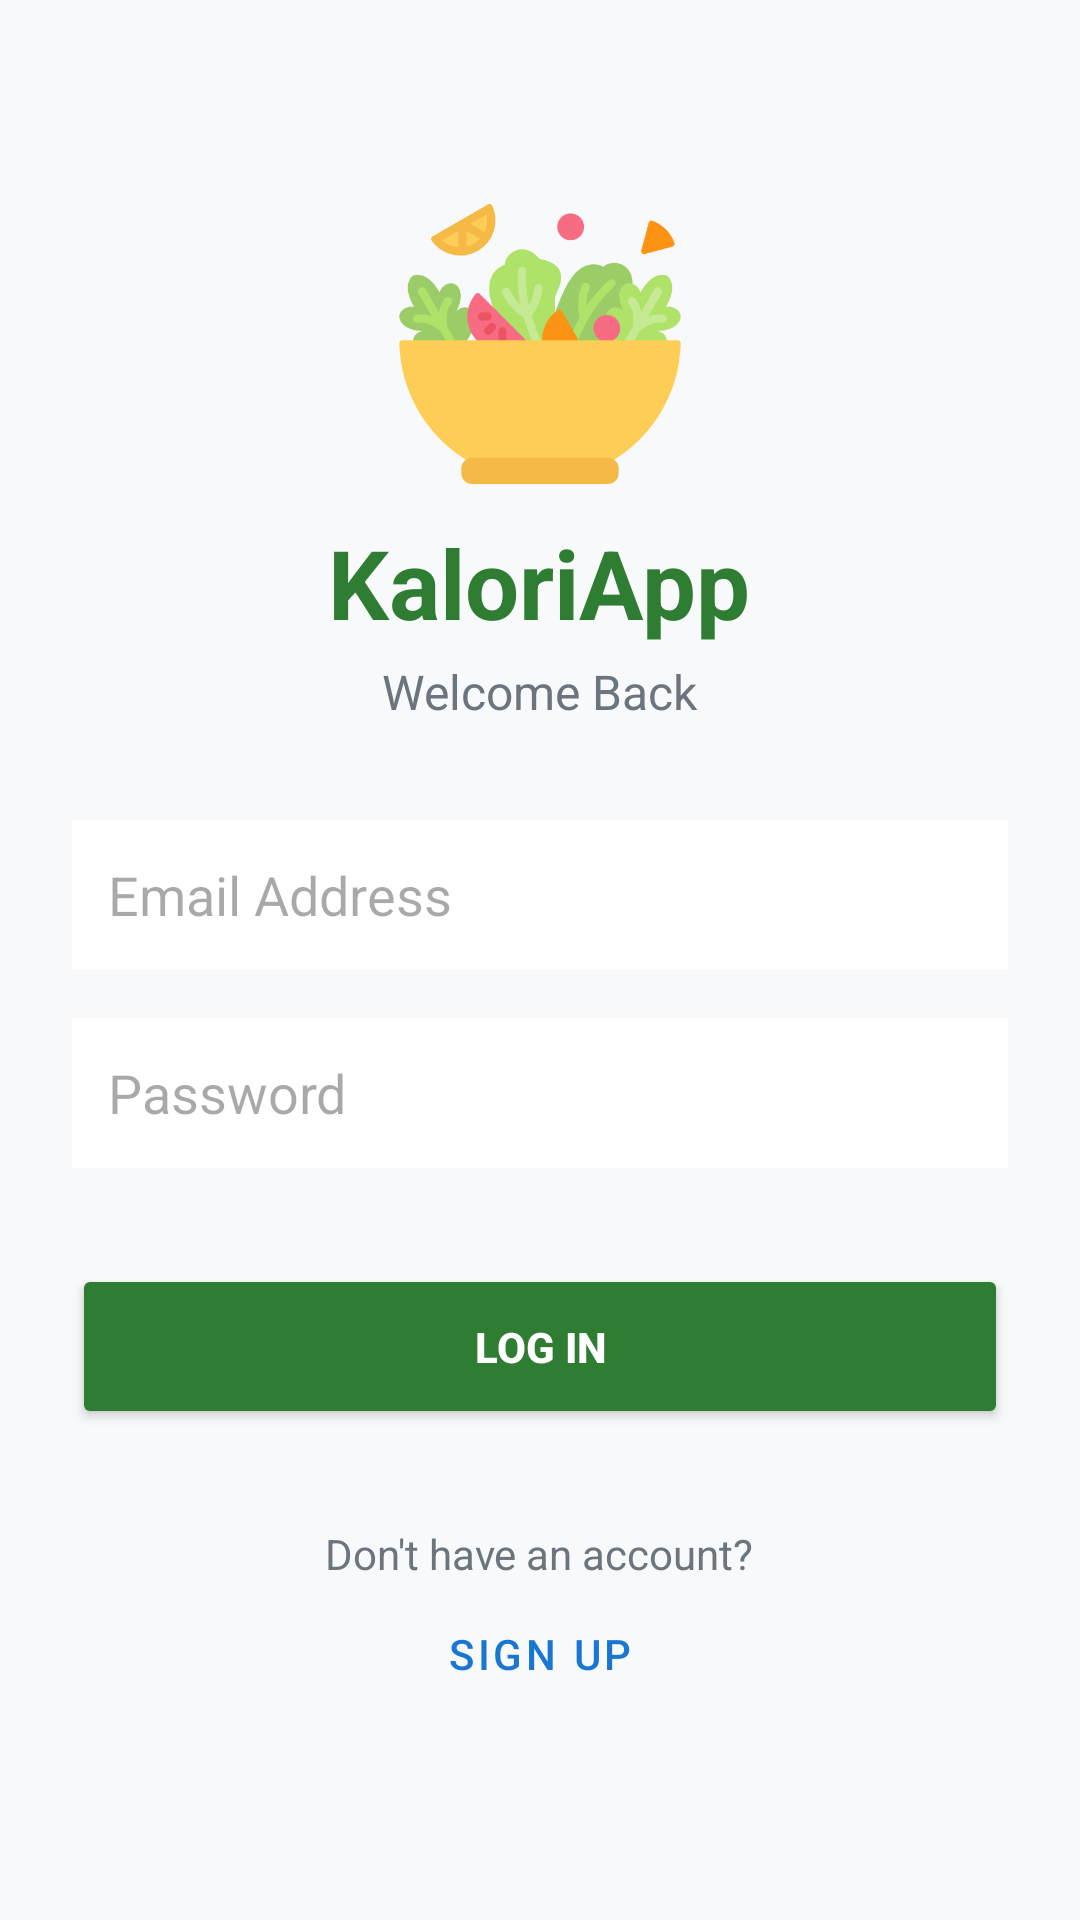

Named icons in this screenshot (1080×1920) and their centers, [x,y]:
salad: [540,344]
